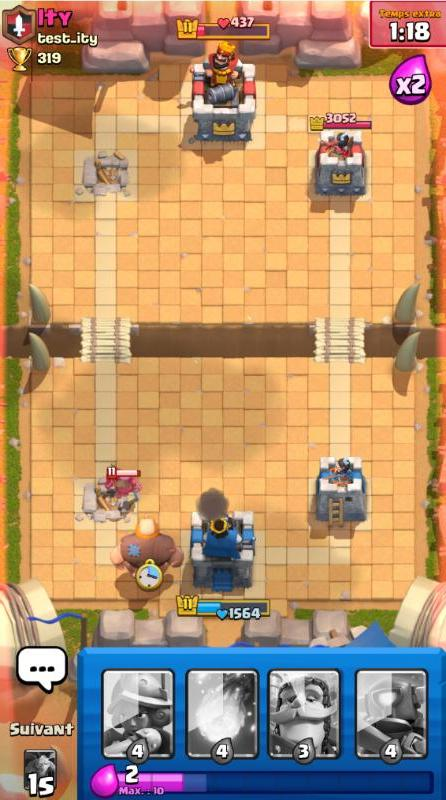geant: (111, 516, 185, 578)
mini_PEKKA: (104, 467, 142, 500)
